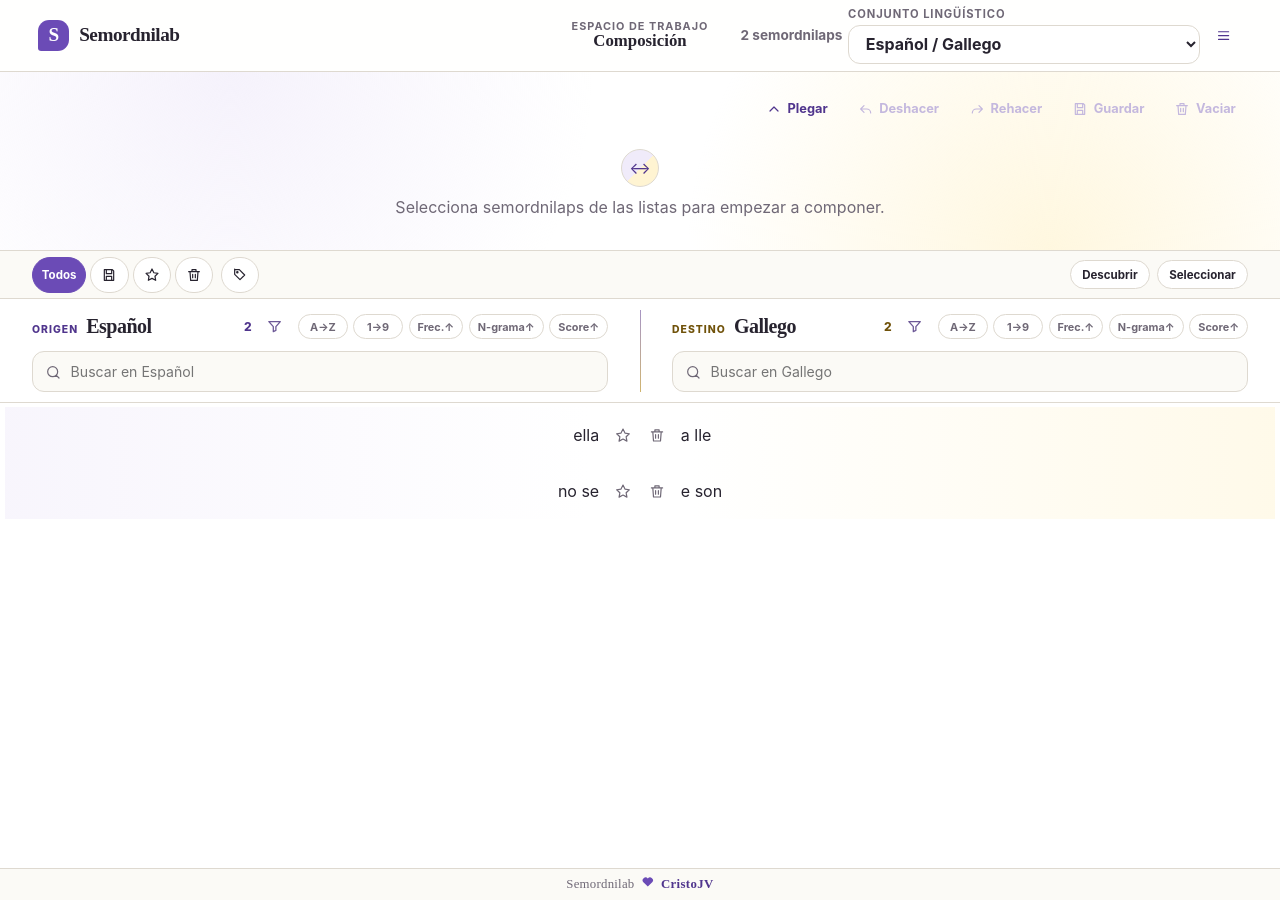
Scenario: WorkspacePage › activa los filtros de palabras de cada idioma de forma independiente
Expected: the button with aria-label "Añadir ella a la composición" is shown, x1=5 y1=408 x2=640 y2=464
Click the button named "Activar filtro Español, 1 palabra".
click(275, 326)  # box x1=257 y1=309 x2=292 y2=344
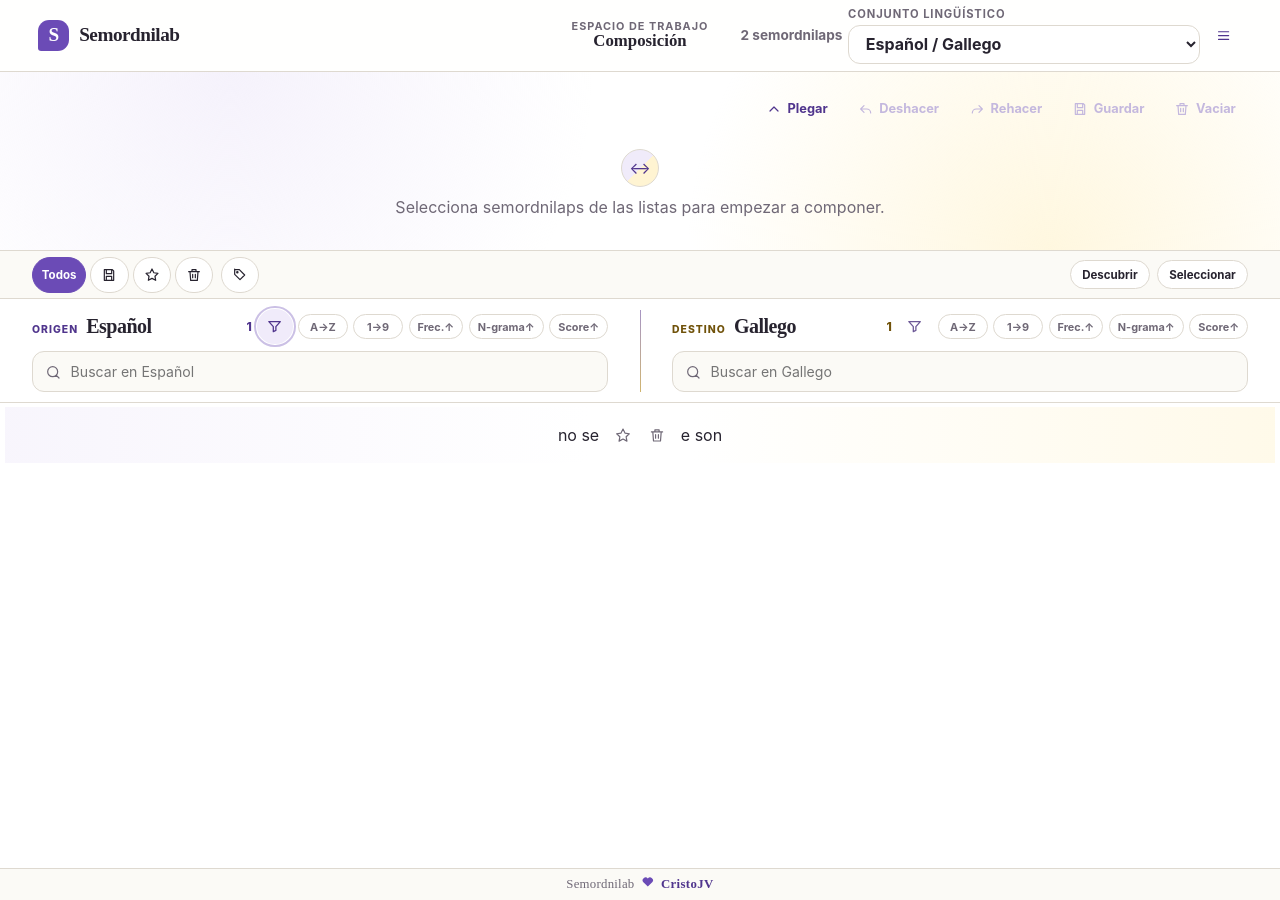
Expected: the button with aria-label "Añadir no se a la composición" is shown, x1=5 y1=408 x2=640 y2=464
Click the button named "Activar filtro Gallego, 1 palabra".
click(915, 326)  # box x1=897 y1=309 x2=932 y2=344
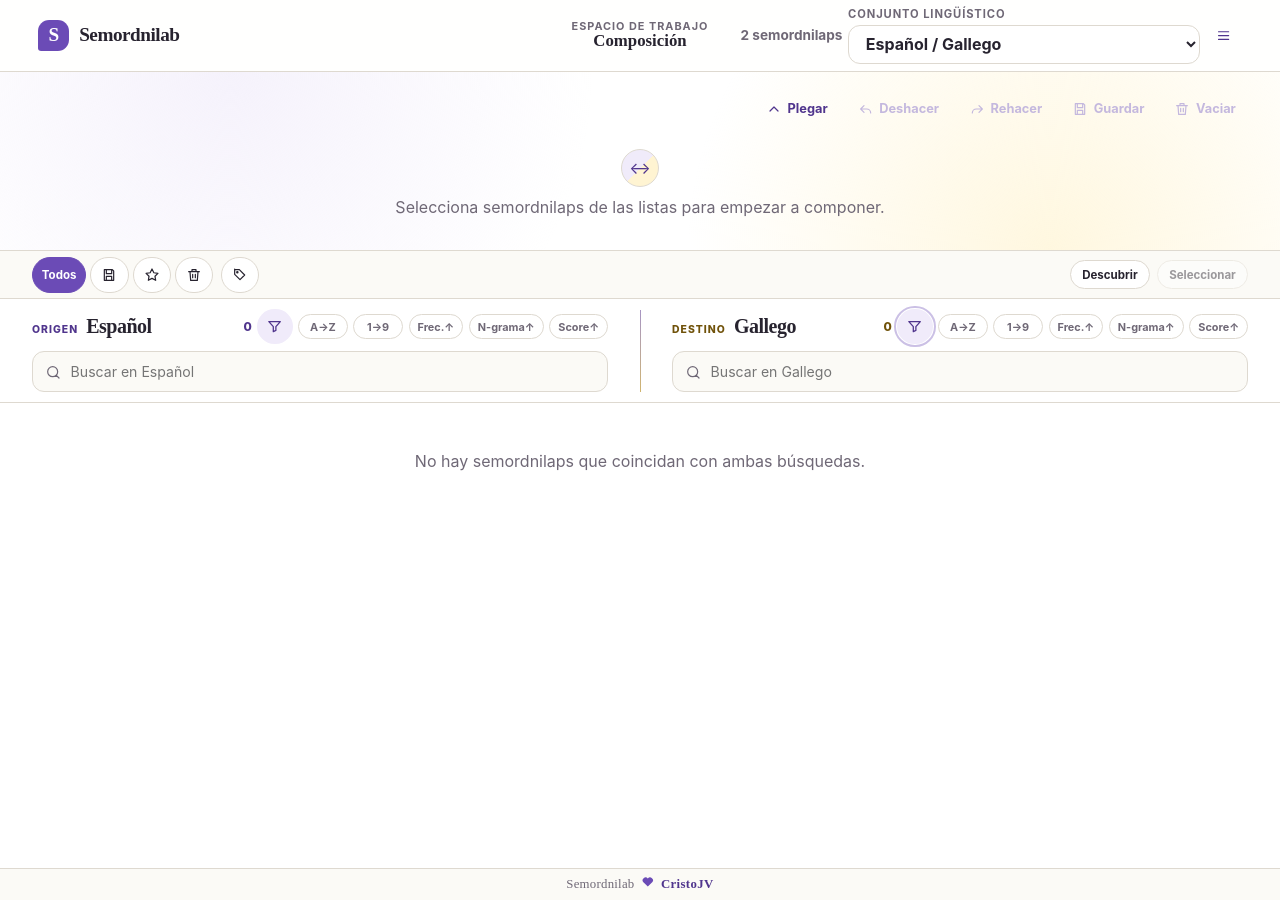
Click the button named "Desactivar filtro Español, 1 palabra".
click(275, 326)  # box x1=257 y1=309 x2=292 y2=344
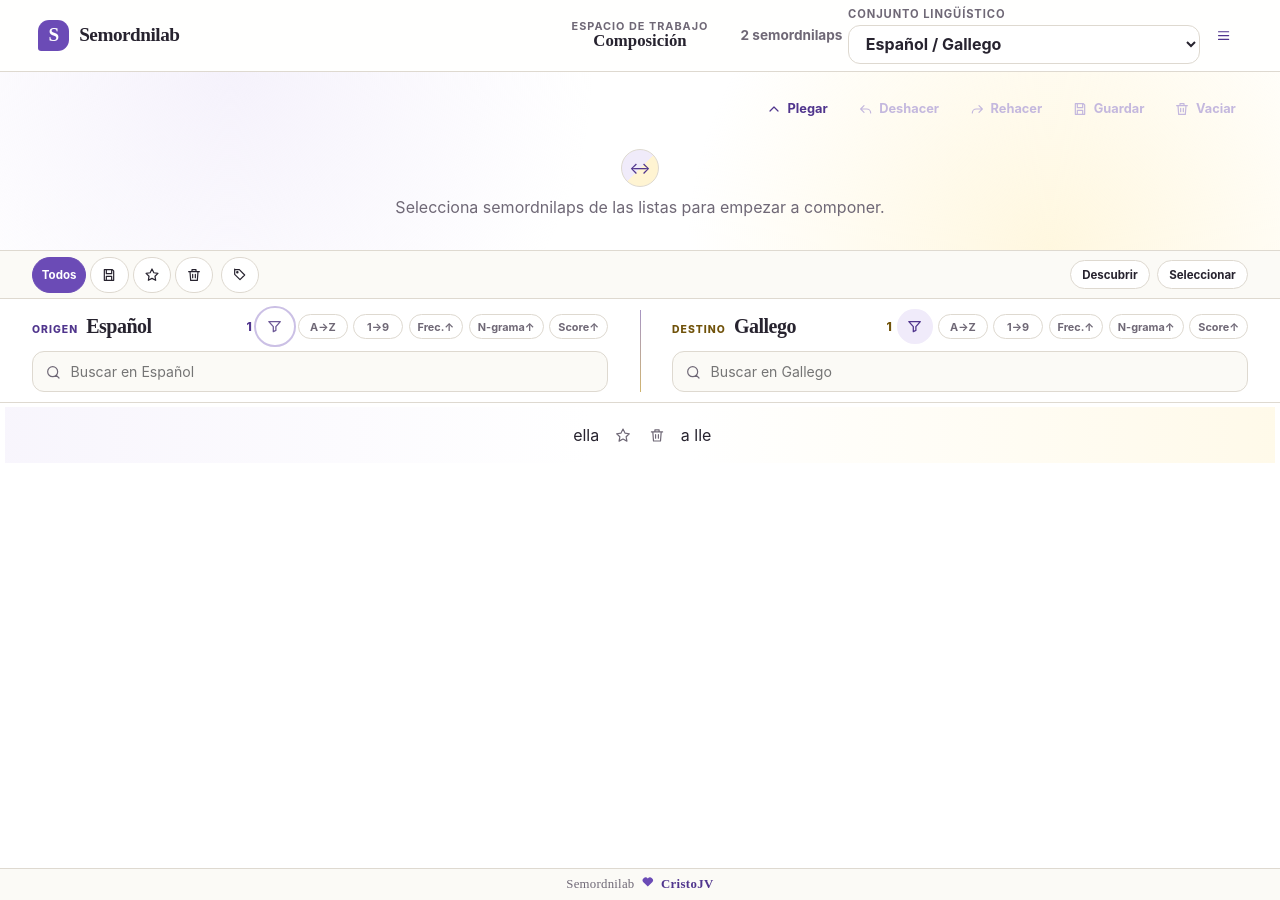
Expected: the button with aria-label "Añadir ella a la composición" is shown, x1=5 y1=408 x2=640 y2=464
